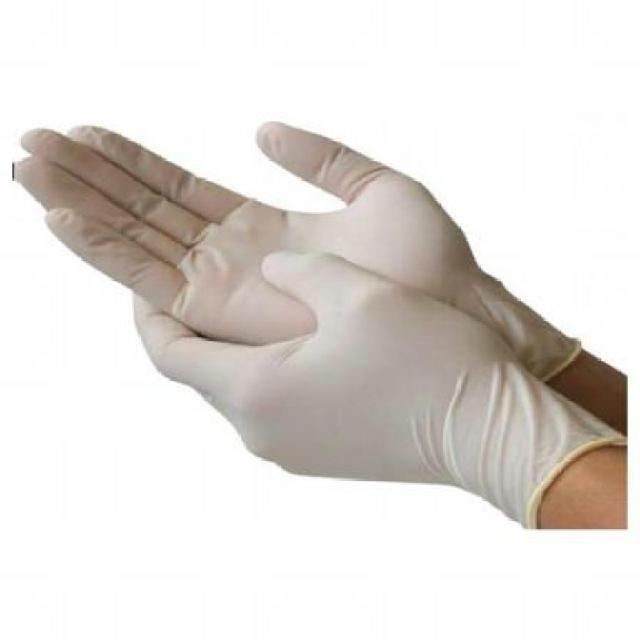glove_hand: (8, 90, 626, 532)
